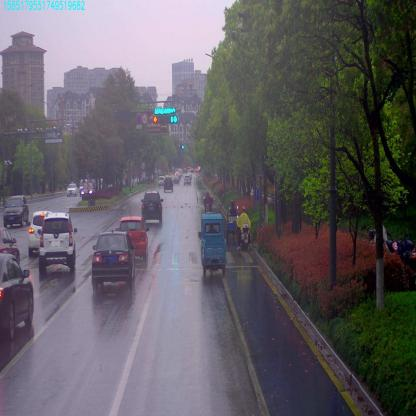traffic-light: (155, 106, 175, 116), (166, 116, 176, 124), (154, 117, 162, 126)
